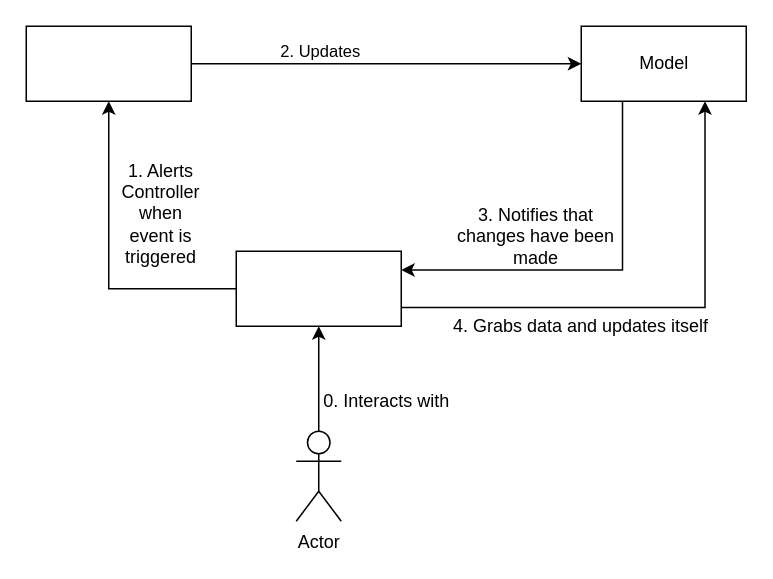
Image size: 773x579. Some labels were removed from this diagram. Each missing label, with the centre of its shape:
"Controller" belongs at pixel 108 63.
"View / Activity" belongs at pixel 318 288.
